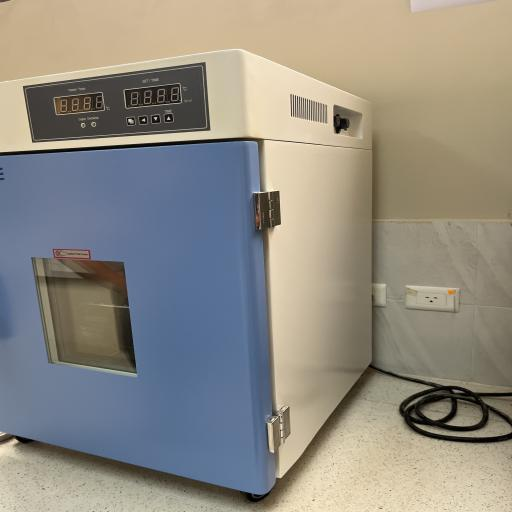Horno_Secado_Biobase: (0, 49, 410, 508)
